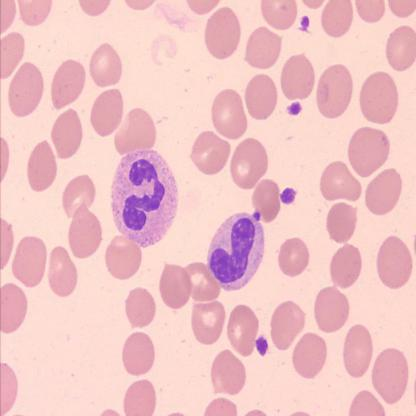Band Neutrophil: (108, 147, 180, 252), (205, 209, 267, 293)
